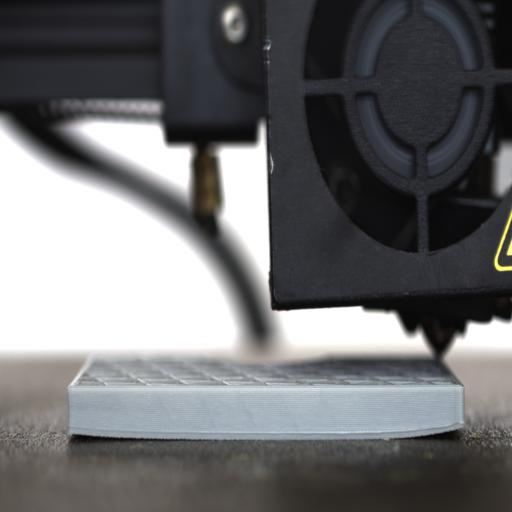warp: (408, 404, 476, 453), (60, 417, 157, 445)
